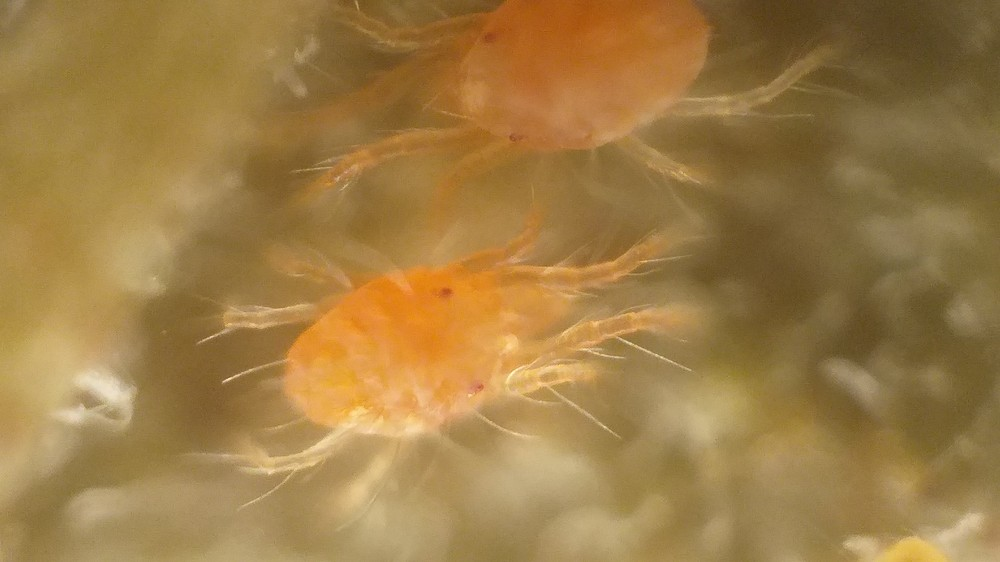Aracnido Rojo: (231, 209, 736, 462), (275, 3, 860, 207)
